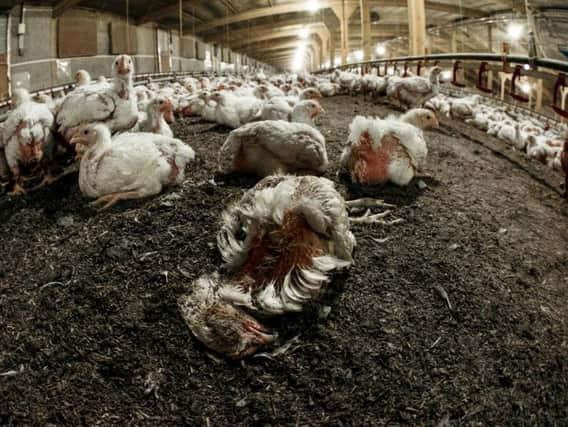AbNormal: (200, 176, 378, 353)
